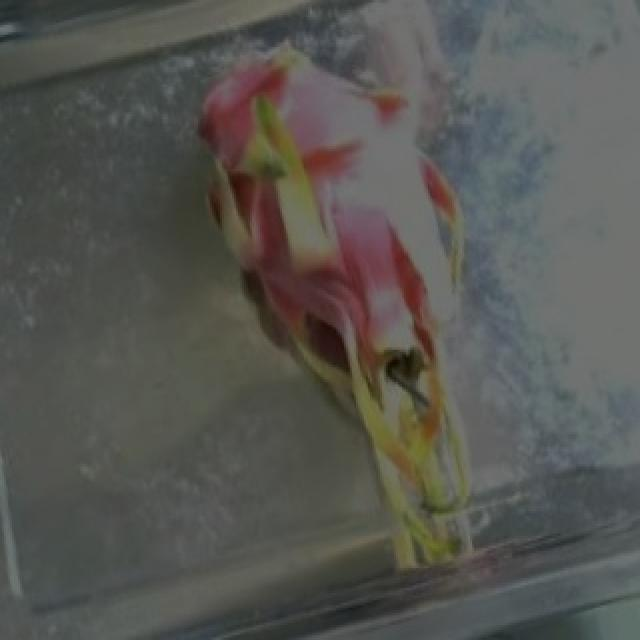fruit: (136, 5, 494, 456)
